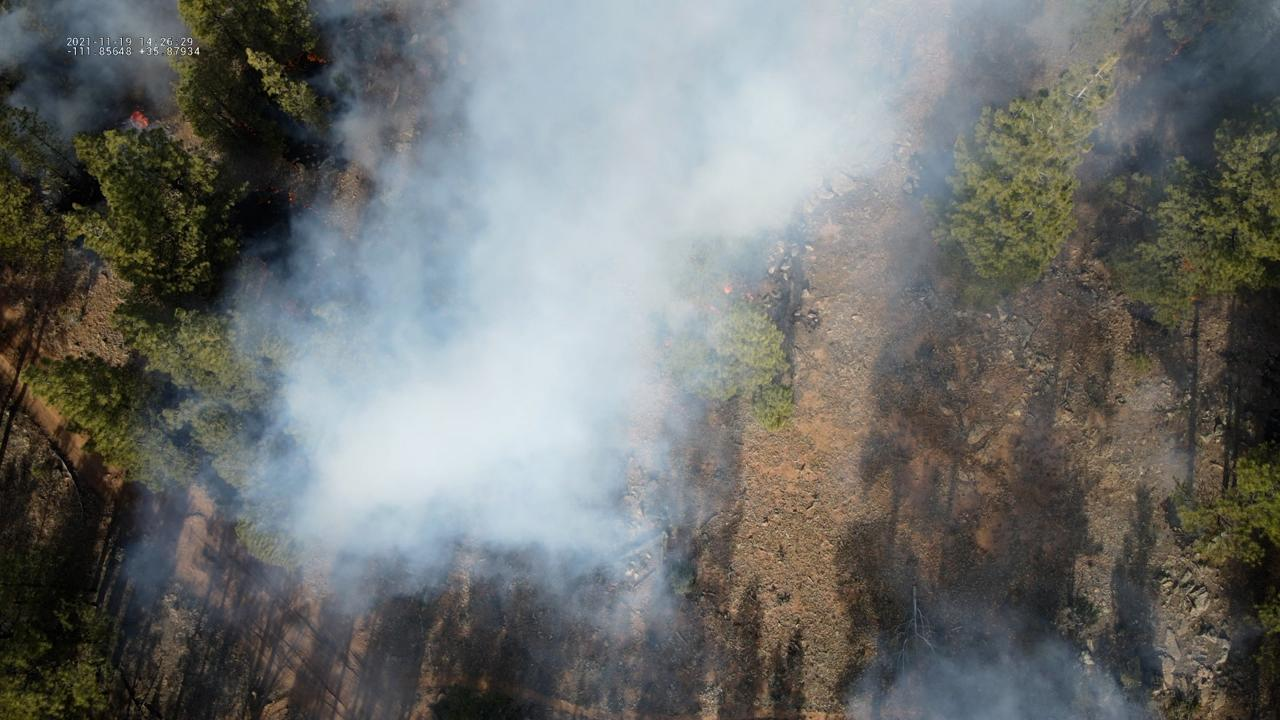fire: (128, 109, 151, 132), (304, 51, 330, 65), (286, 188, 299, 205), (724, 284, 734, 297)
smoke: (189, 0, 1280, 634), (835, 570, 1166, 720), (0, 0, 189, 192)
